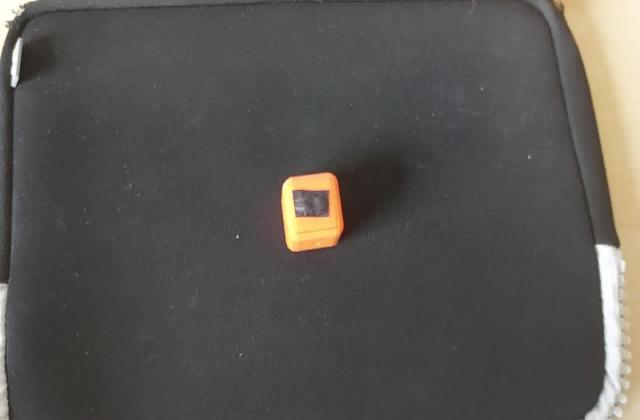black: (288, 186, 334, 222)
sticker: (278, 167, 346, 257)
